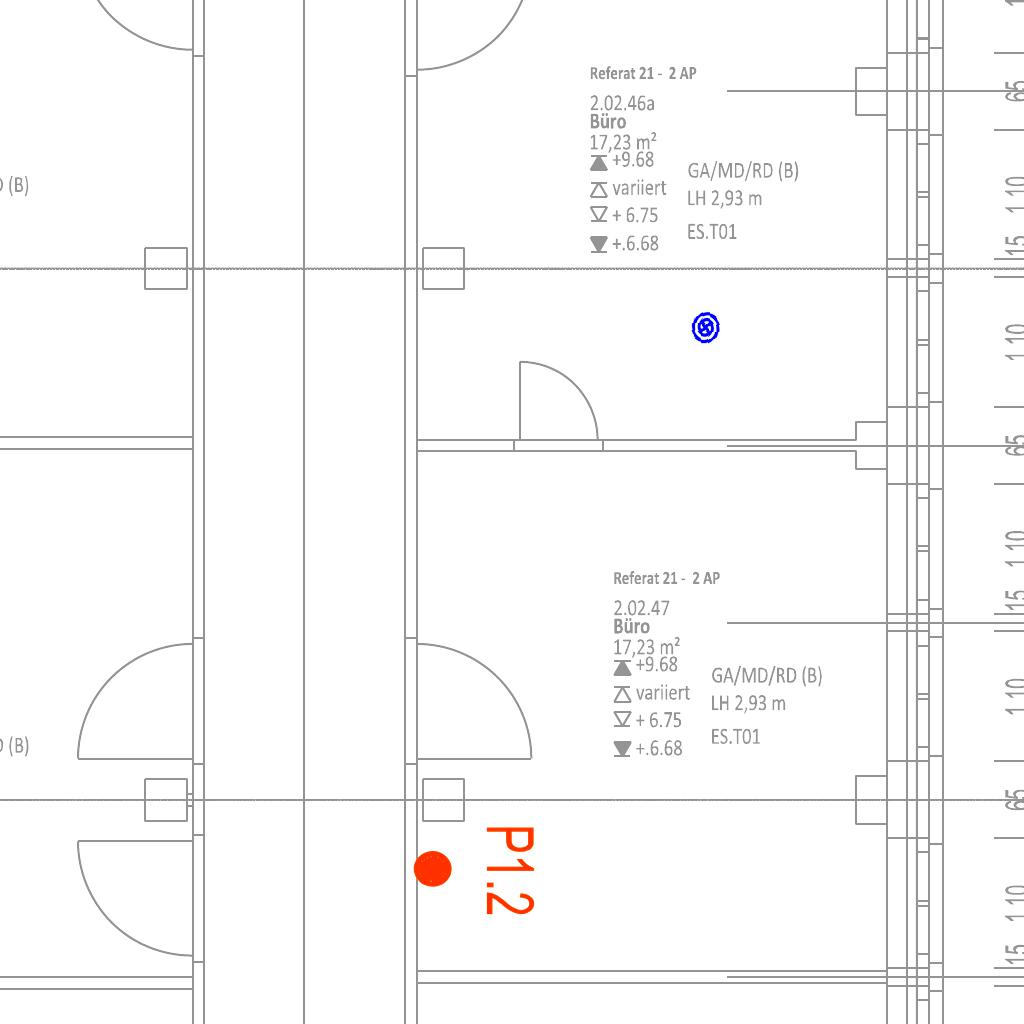Downlight_LED_Einbauleuchten_Flur: (410, 824, 538, 917)
Taster_beleuchtet: (686, 308, 725, 347)
